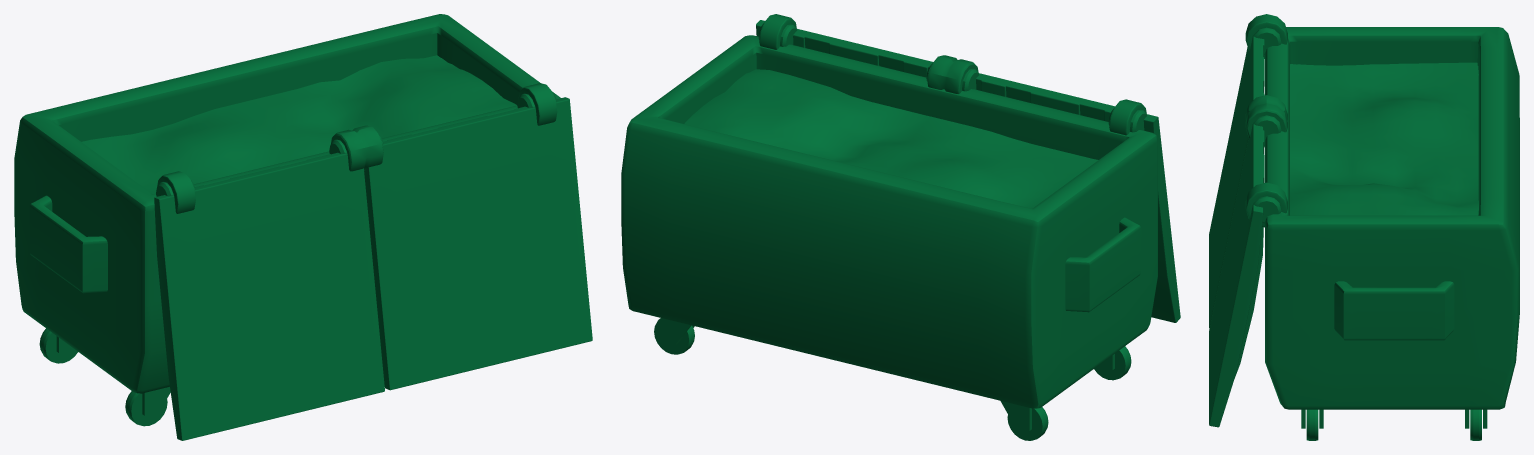
File: Dumpster.fbx
The picture shows the model from 3 angles, left to right: view 1: azimuth 30°, elevation 25°; view 2: azimuth 150°, elevation 25°; view 3: azimuth 270°, elevation 25°; orthographic projection. The views are drawn at different scales.
Visible parts, largest first — view 1: Dumpy; view 2: Dumpy; view 3: Dumpy.
Boxes of the visible parts, x1,y1,x2,y2 form: Dumpy: (14,14,592,440); Dumpy: (621,14,1180,440); Dumpy: (1209,14,1519,440).
Size of the model in its own units: 248 by 134 by 149.
